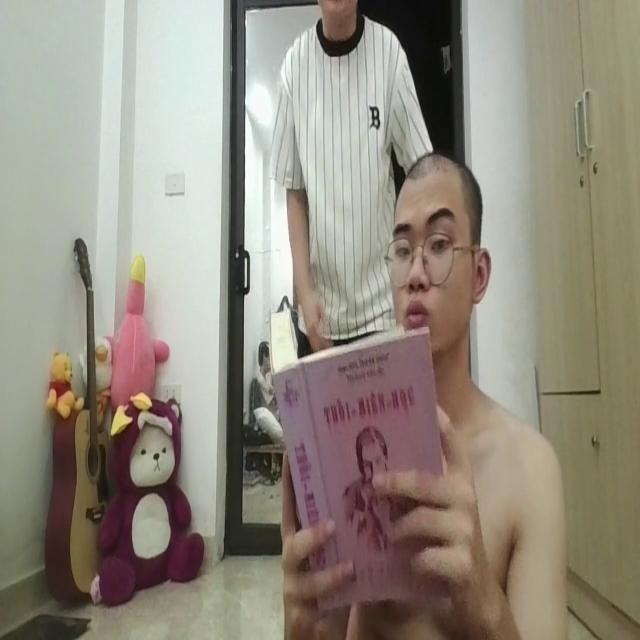book: (268, 301, 461, 614)
extra_person: (265, 0, 440, 376)
student: (276, 153, 572, 640)
